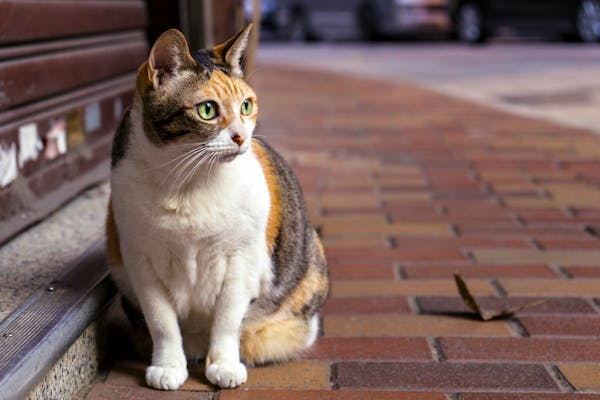Cat: (104, 23, 330, 390)
